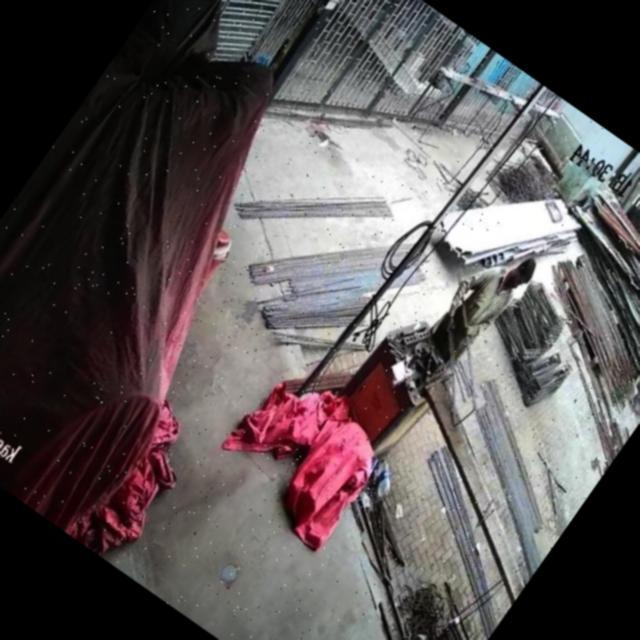person: (421, 228, 546, 374)
